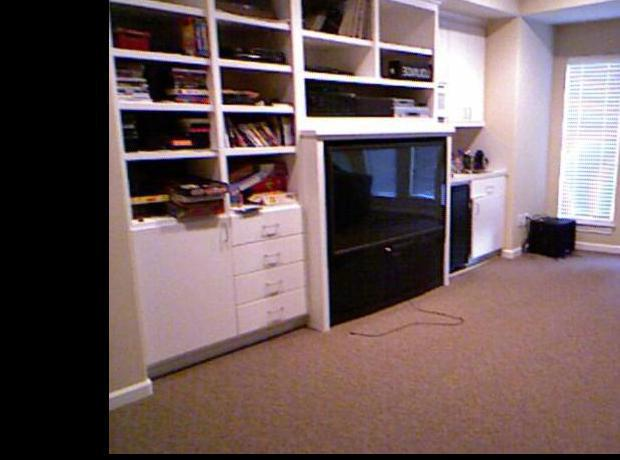Otro Obstaculo: (524, 210, 576, 260)
